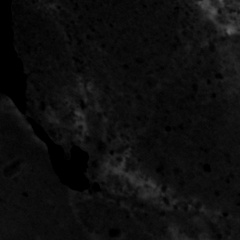Vegetation: (103, 161, 163, 197), (197, 1, 240, 36), (72, 106, 89, 138)
